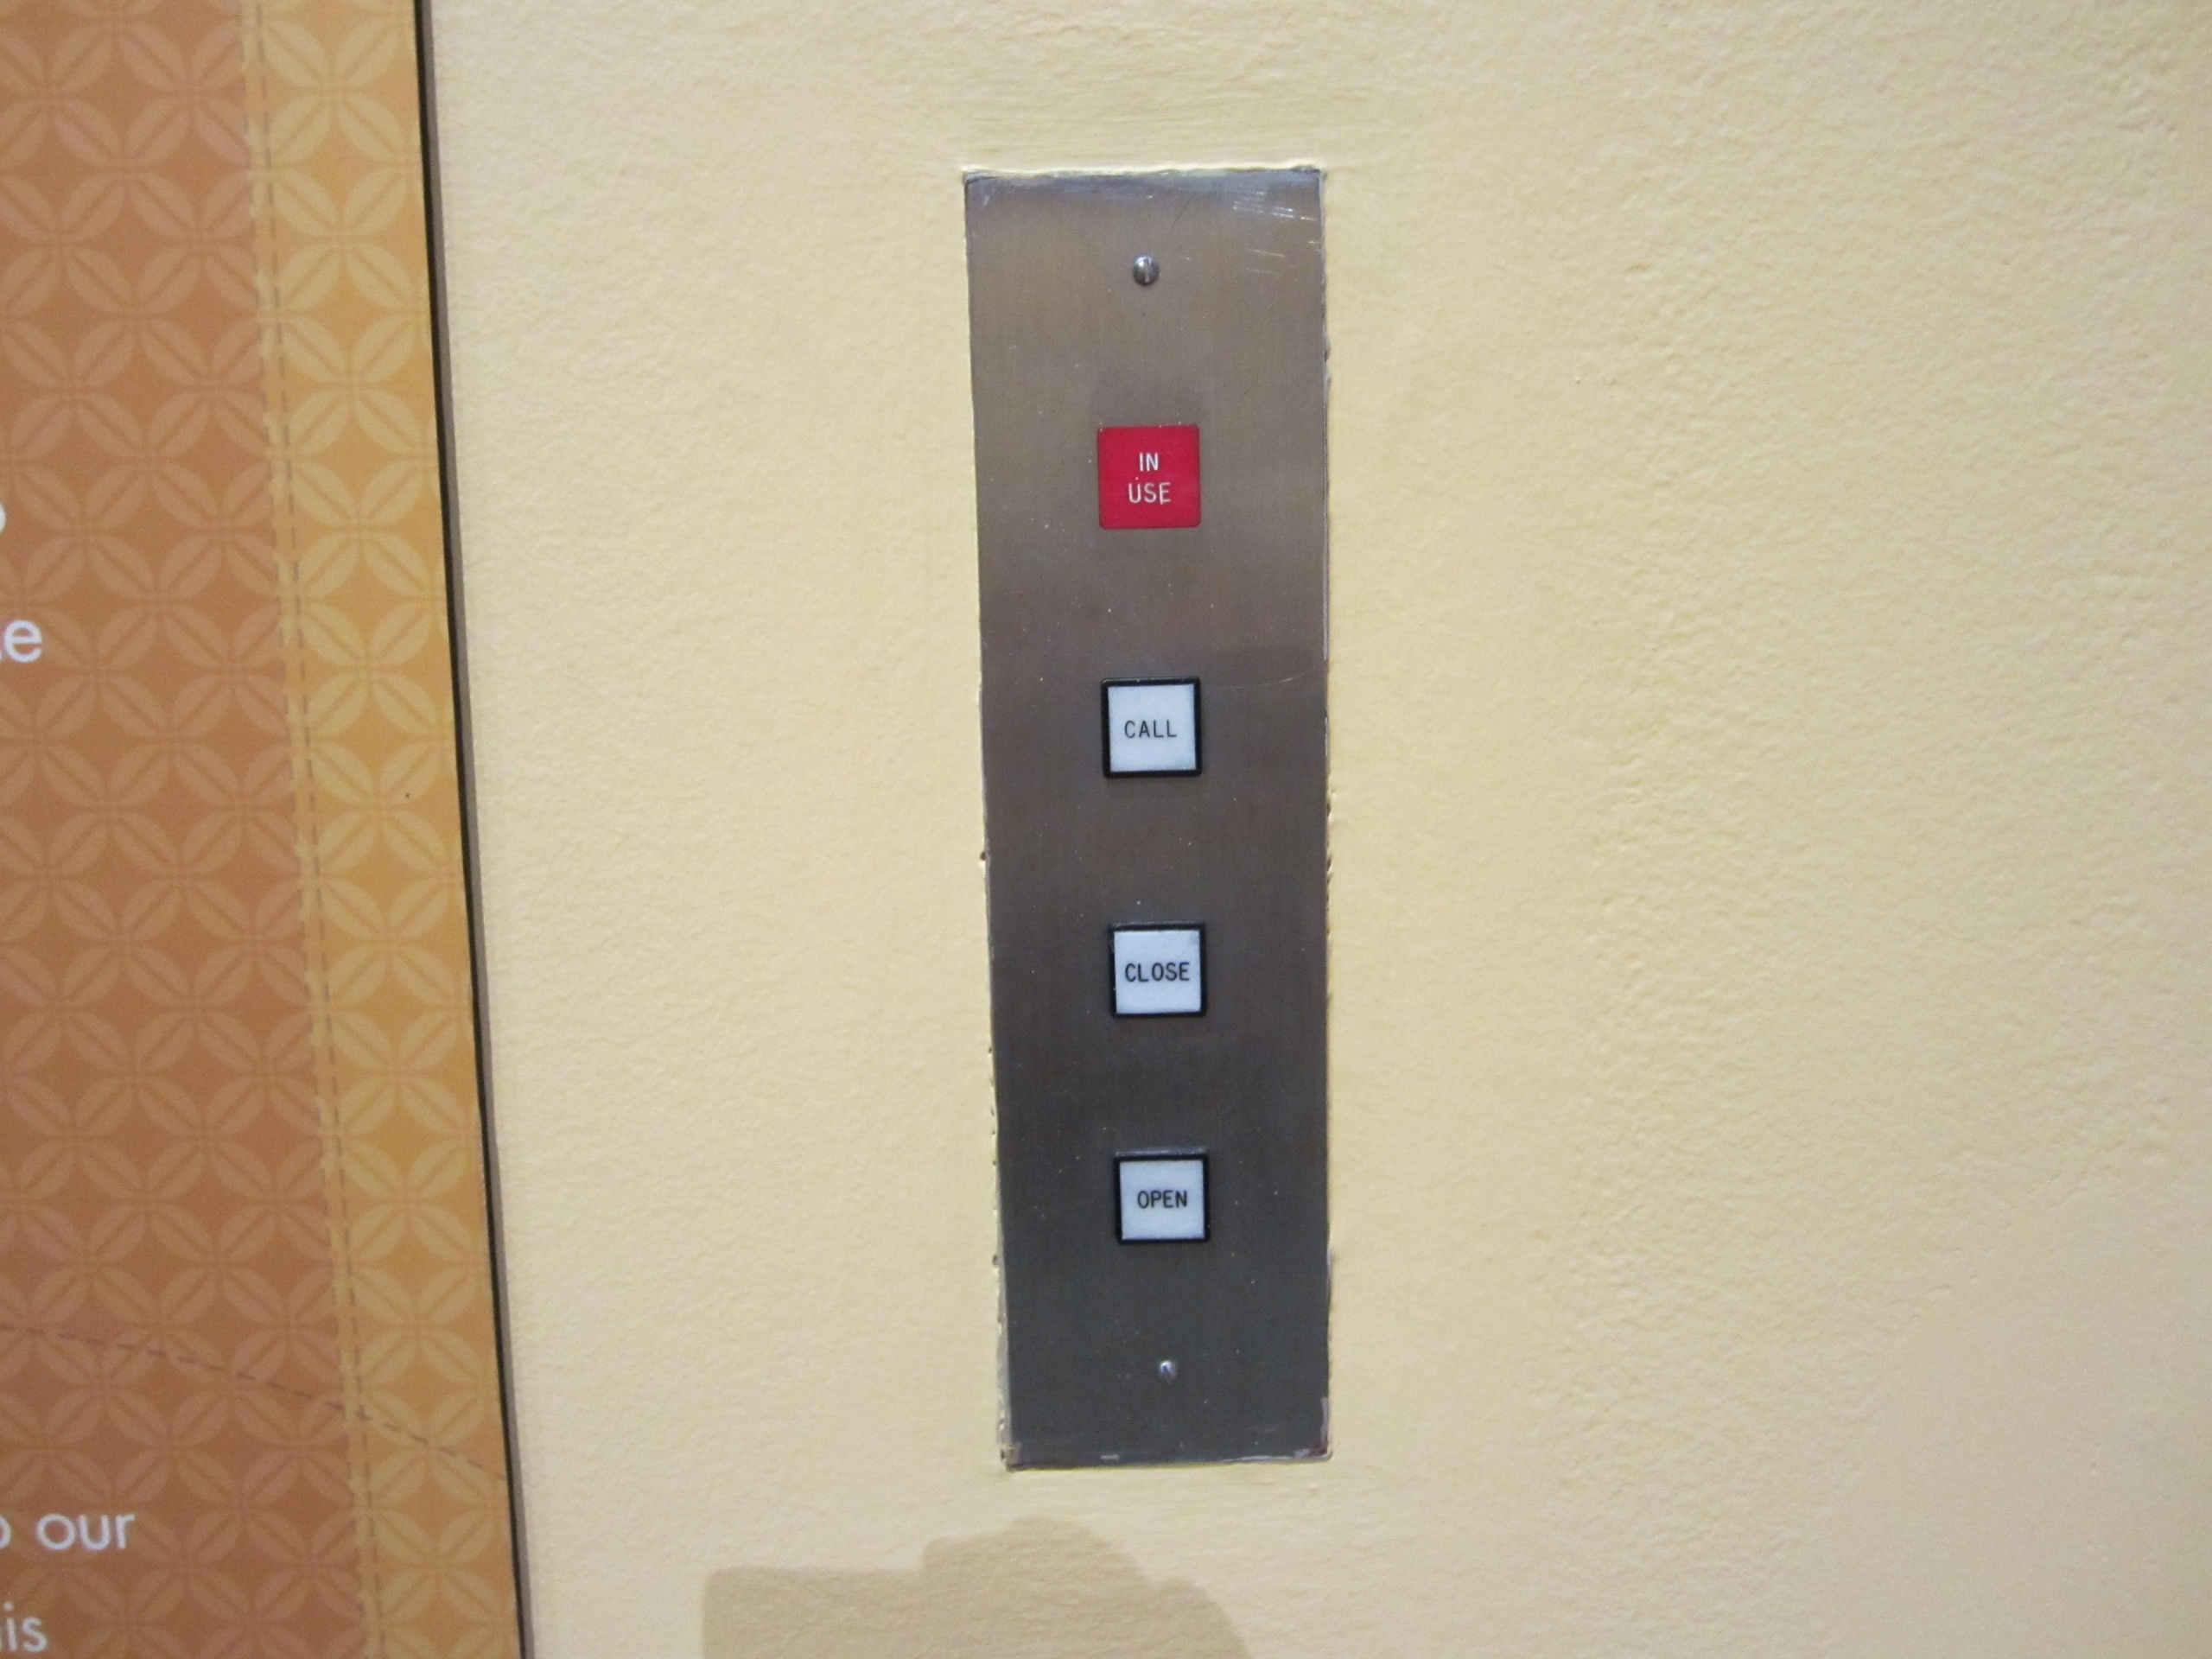text_CALL: (1099, 676, 1207, 779)
text_CLOSE: (1108, 917, 1205, 1021)
text_INUSE: (1089, 422, 1205, 532)
text_OPEN: (1113, 1148, 1212, 1246)
